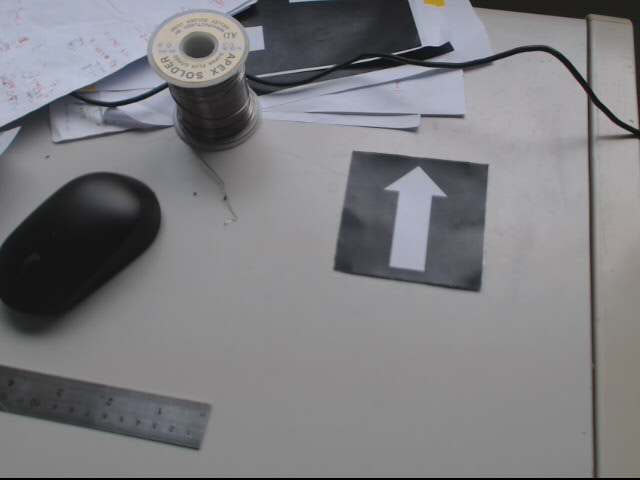straight: (331, 150, 486, 292)
